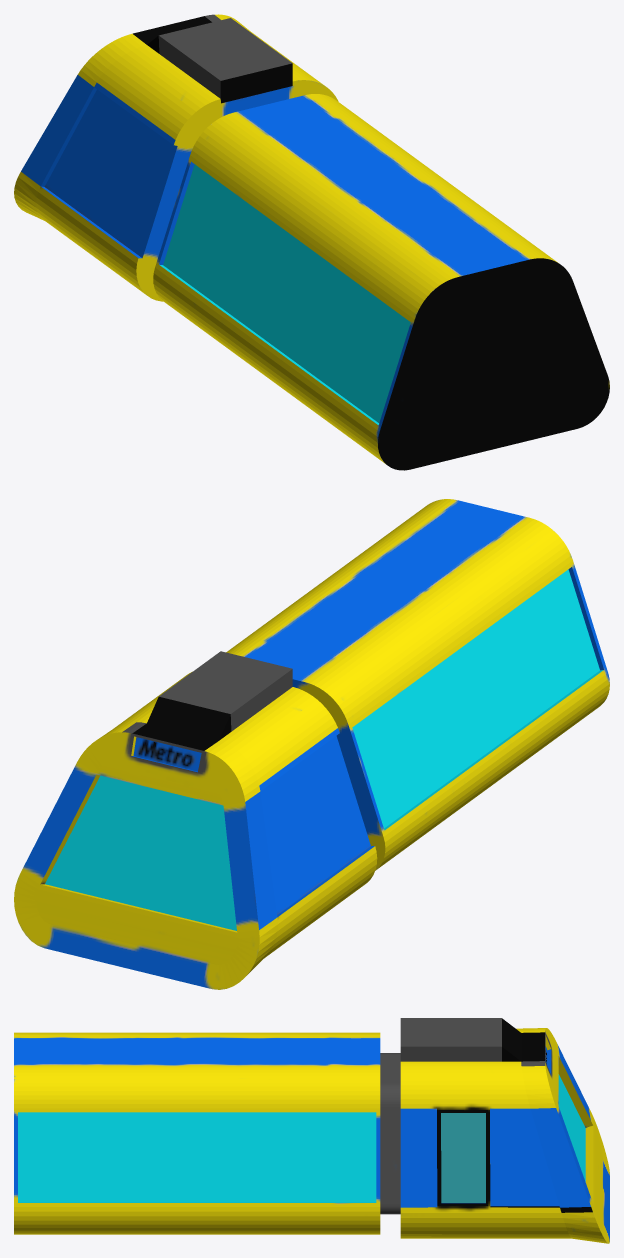
The model's file is Train_Model_Beta_01.fbx.
3 renders of one model, top to bottom at view 1: azimuth 30°, elevation 25°; view 2: azimuth 150°, elevation 25°; view 3: azimuth 270°, elevation 25°, orthographic. The views are drawn at different scales.
Parts seen in each view (by area): view 1: polySurface55; view 2: polySurface55; view 3: polySurface55.
Boxes of the visible parts, x1,y1,x2,y2 form: polySurface55: (14, 14, 609, 470); polySurface55: (14, 499, 609, 989); polySurface55: (14, 1018, 609, 1243).
Bounding box in the file's own units: 564 × 475 × 1464.
1 material, 1 textured.
